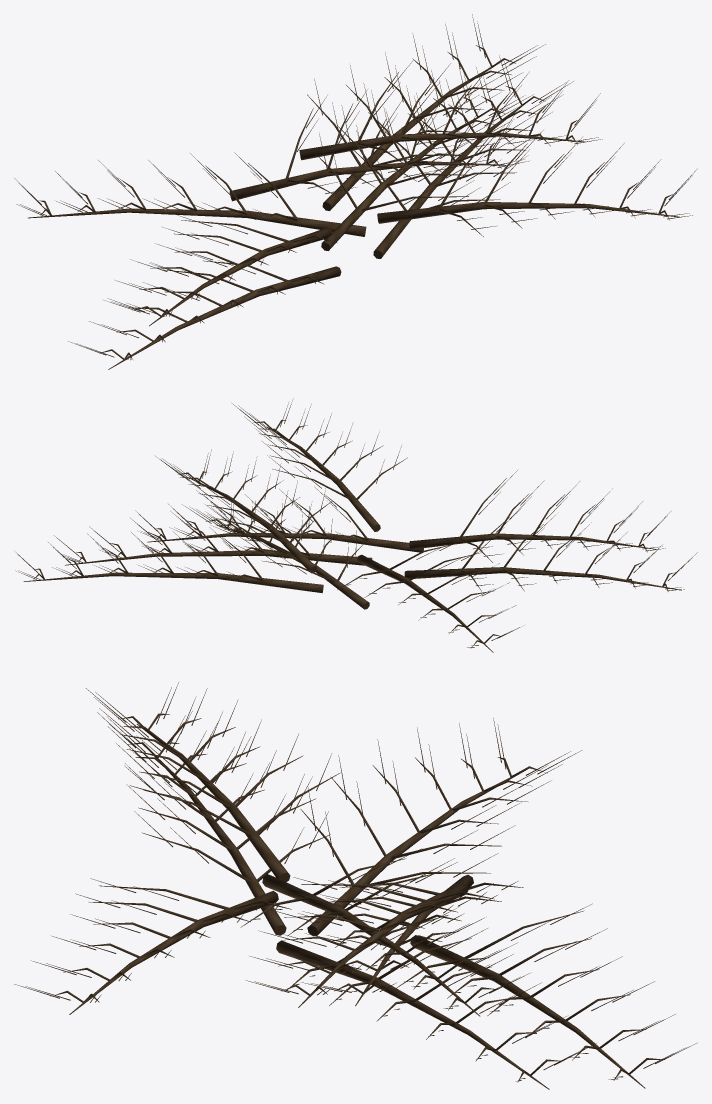
Rendered from SS_Brash_Dry_01_LOD0.fbx.
The picture shows the model from 3 angles, top to bottom: view 1: azimuth 30°, elevation 25°; view 2: azimuth 150°, elevation 25°; view 3: azimuth 270°, elevation 25°; orthographic projection. The views are drawn at different scales.
Parts seen in each view (by area): view 1: SS_Brash_Dry_01_LOD0_Structure; view 2: SS_Brash_Dry_01_LOD0_Structure; view 3: SS_Brash_Dry_01_LOD0_Structure.
Boxes of the visible parts, x1,y1,x2,y2 form: SS_Brash_Dry_01_LOD0_Structure: (14,14,697,369); SS_Brash_Dry_01_LOD0_Structure: (15,398,697,652); SS_Brash_Dry_01_LOD0_Structure: (14,682,697,1089).
Size of the model in its own units: 622 by 107 by 467.
